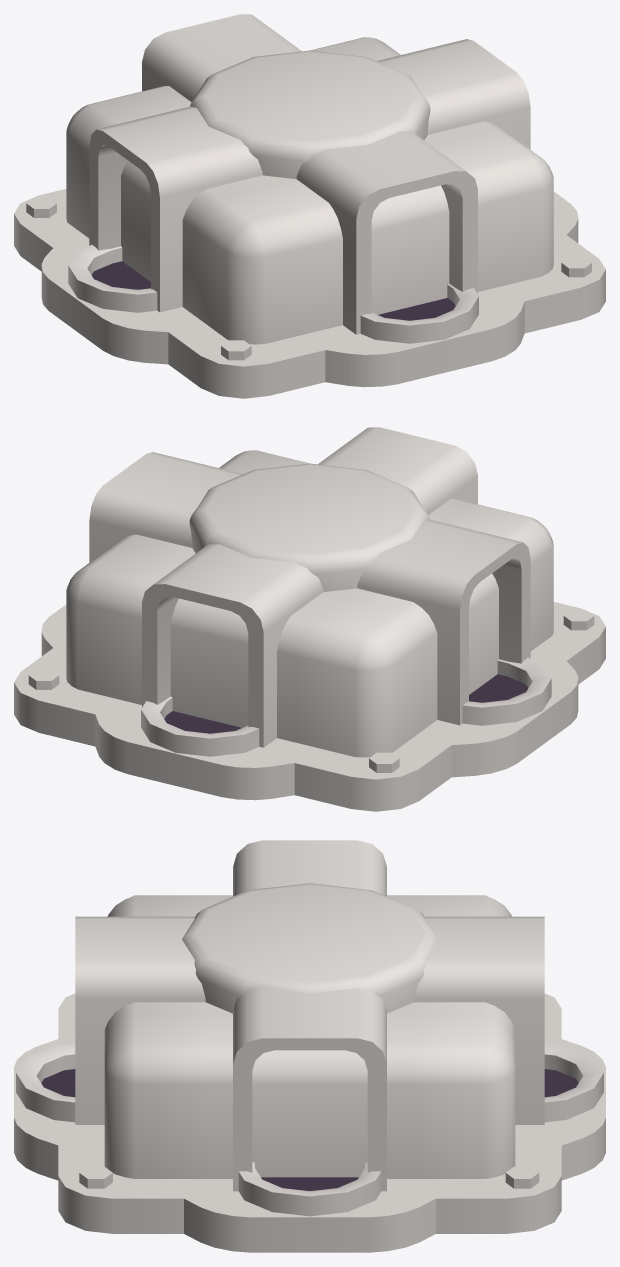
File: core_base.fbx
3 renders of one model, top to bottom at view 1: azimuth 30°, elevation 25°; view 2: azimuth 150°, elevation 25°; view 3: azimuth 270°, elevation 25°, orthographic. The views are drawn at different scales.
Visible parts, largest first — view 1: core_base; view 2: core_base; view 3: core_base.
Boxes of the visible parts, box(x1,y1,x2,y2) form: core_base: box(14, 14, 605, 398); core_base: box(14, 427, 605, 811); core_base: box(14, 840, 605, 1252).
Size of the model in its own units: 3.53 by 1.31 by 3.53.
